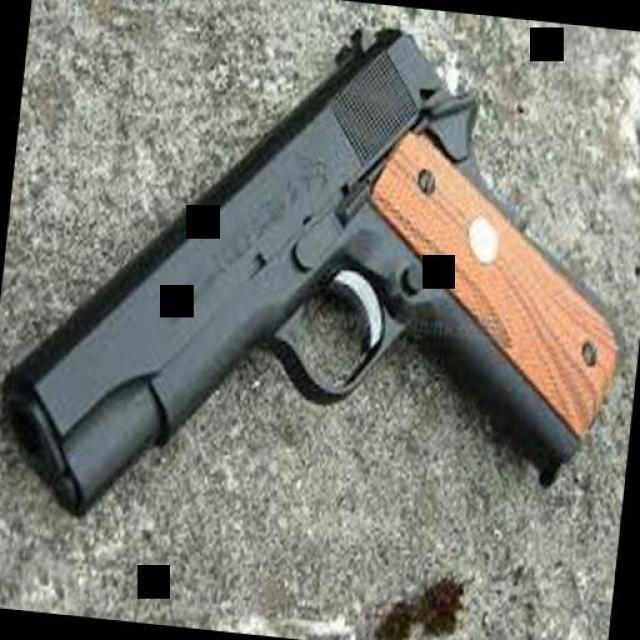gun: (2, 0, 640, 575)
